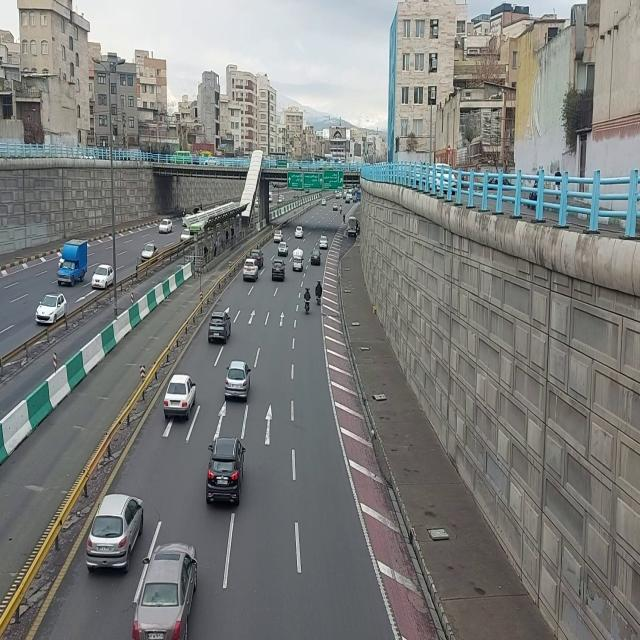Car: (132, 541, 198, 640), (84, 493, 144, 575), (205, 436, 245, 508), (163, 373, 197, 420), (224, 359, 251, 403), (35, 292, 67, 326), (208, 310, 232, 346), (91, 264, 115, 292), (242, 259, 260, 283), (271, 257, 285, 283), (140, 242, 158, 262), (292, 248, 304, 273), (310, 248, 322, 268), (159, 218, 173, 235), (277, 241, 289, 258), (249, 249, 264, 261), (295, 225, 306, 241), (319, 235, 329, 252), (180, 228, 191, 243), (273, 229, 283, 245), (333, 203, 339, 213), (321, 197, 327, 205)
Motorcycle: (315, 279, 323, 307), (304, 286, 312, 314), (182, 206, 187, 217), (343, 213, 347, 225), (339, 203, 343, 214), (199, 200, 203, 211)
Pickup: (57, 239, 88, 287)
